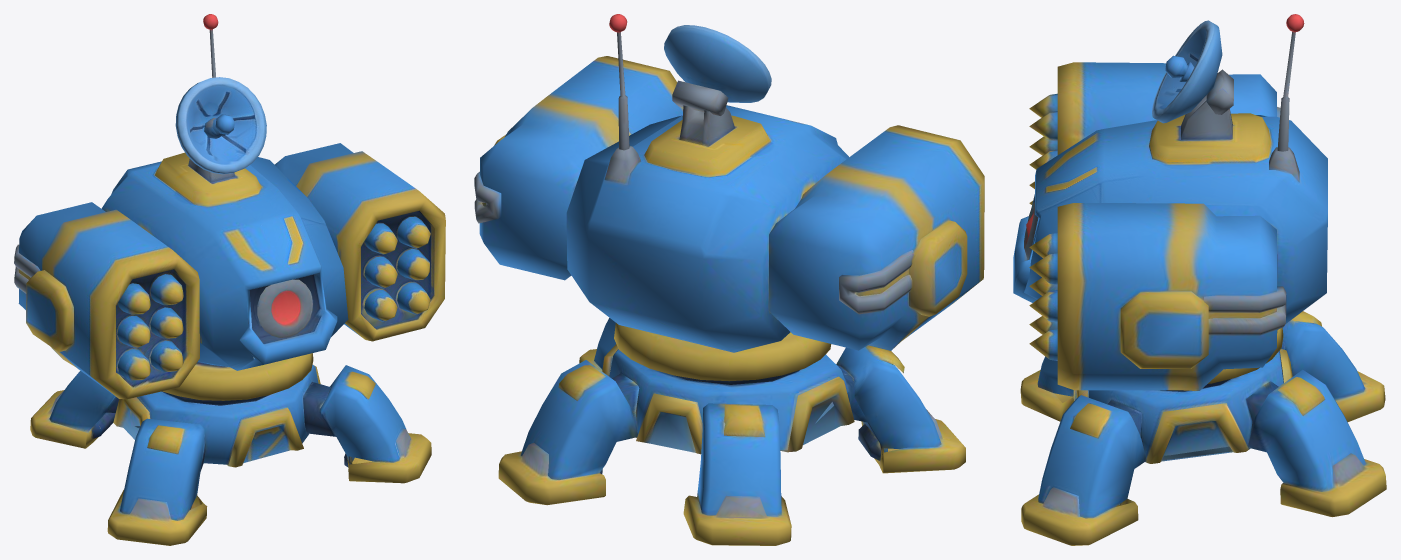
Rendered from missile_turret_3.glb.
The picture shows the model from 3 angles, left to right: view 1: azimuth 30°, elevation 25°; view 2: azimuth 150°, elevation 25°; view 3: azimuth 270°, elevation 25°; orthographic projection. The views are drawn at different scales.
Parts seen in each view (by area): view 1: tripo_node_7b642f14-89c8-478a-b139-066fce822ee6; view 2: tripo_node_7b642f14-89c8-478a-b139-066fce822ee6; view 3: tripo_node_7b642f14-89c8-478a-b139-066fce822ee6.
Part boxes in pixels (<box>): tripo_node_7b642f14-89c8-478a-b139-066fce822ee6: <box>14,14,445,545</box>; tripo_node_7b642f14-89c8-478a-b139-066fce822ee6: <box>474,14,984,545</box>; tripo_node_7b642f14-89c8-478a-b139-066fce822ee6: <box>1013,14,1386,545</box>.
Size of the model in its own units: 2.4 by 2.48 by 1.78.
Materials: 1 (1 with a texture image).
